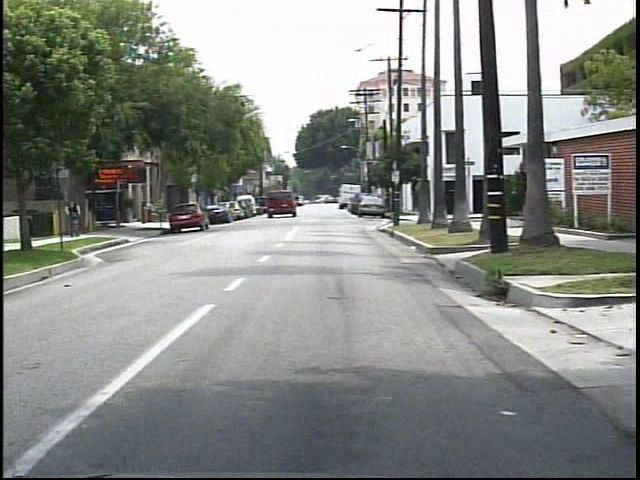person: (52, 192, 81, 239)
